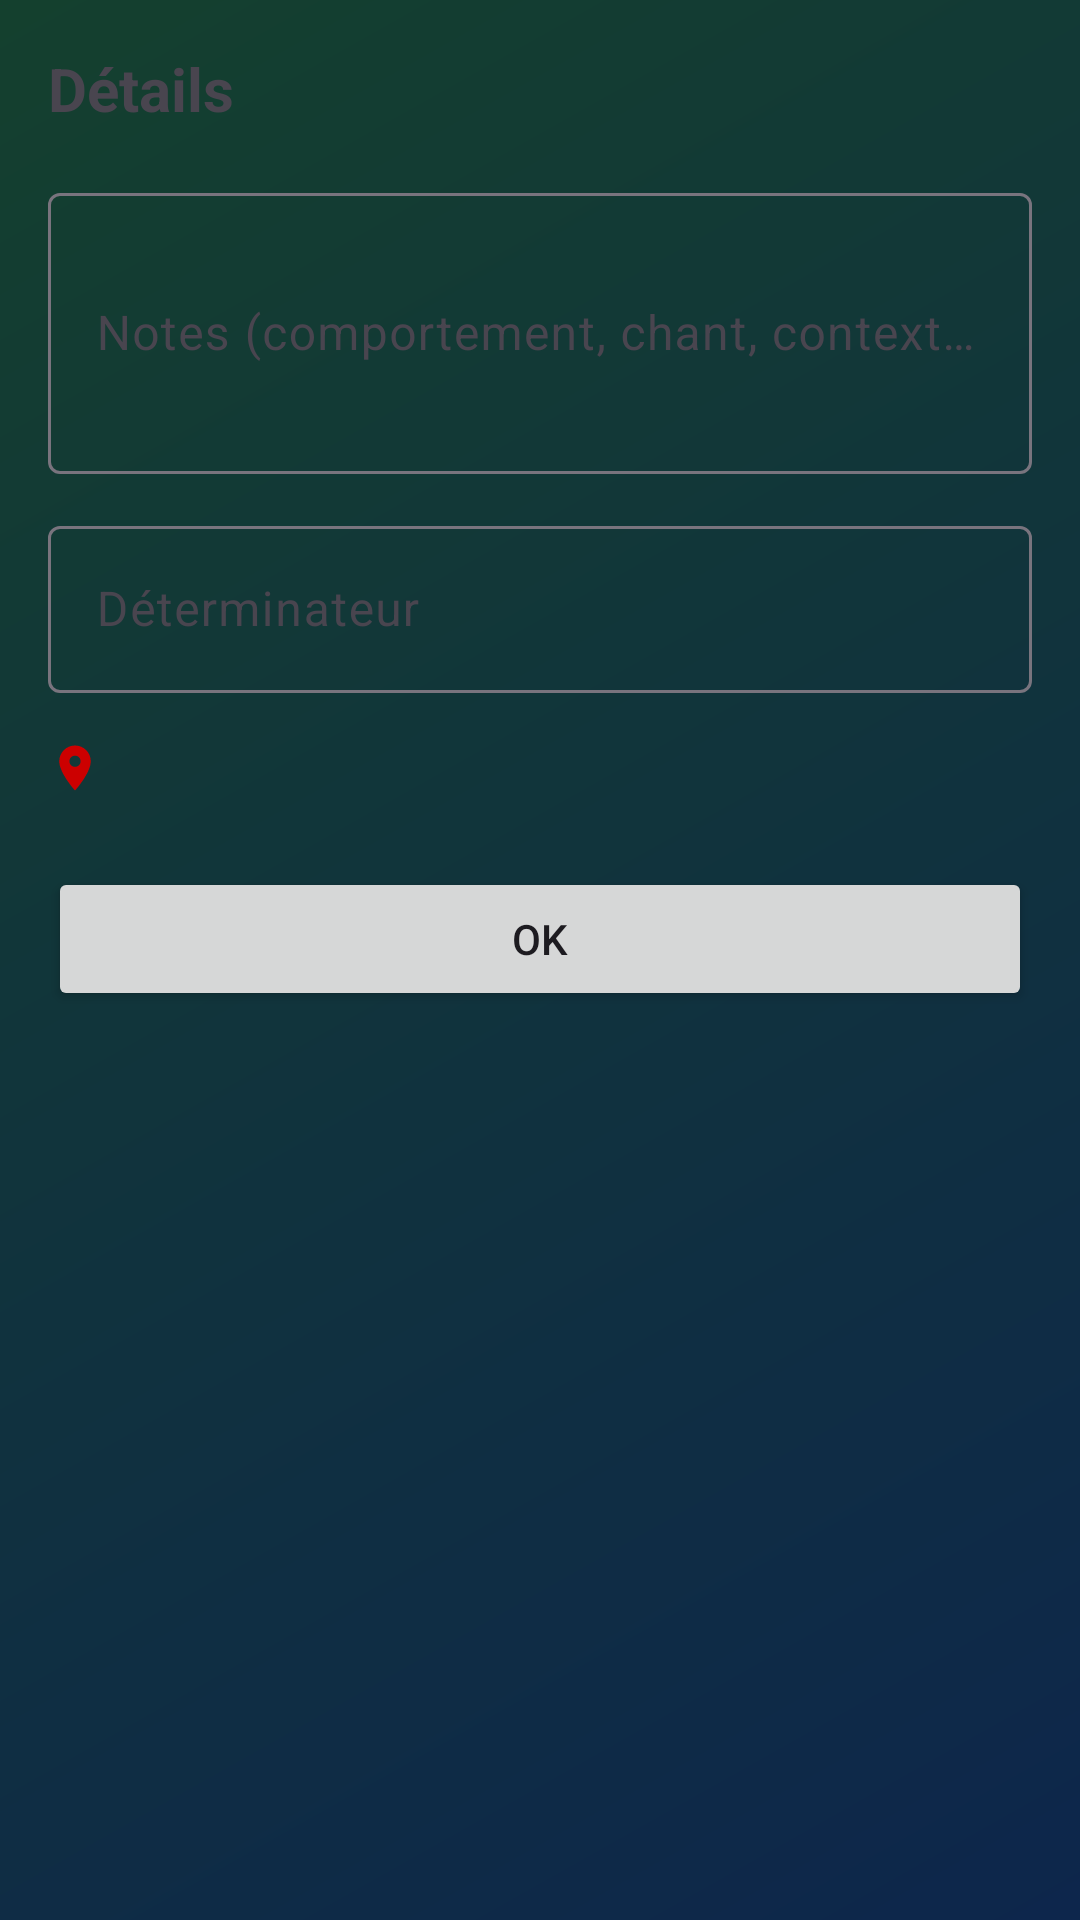

Icon bounding boxes for this 1080 x 1920 phone screenshot, format (x1, y1, x2, y2):
location pin: (59, 745, 91, 790)
